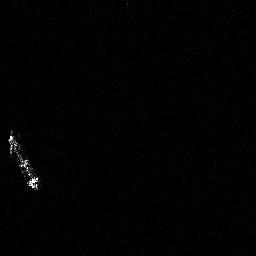ship: (5, 127, 45, 193)
